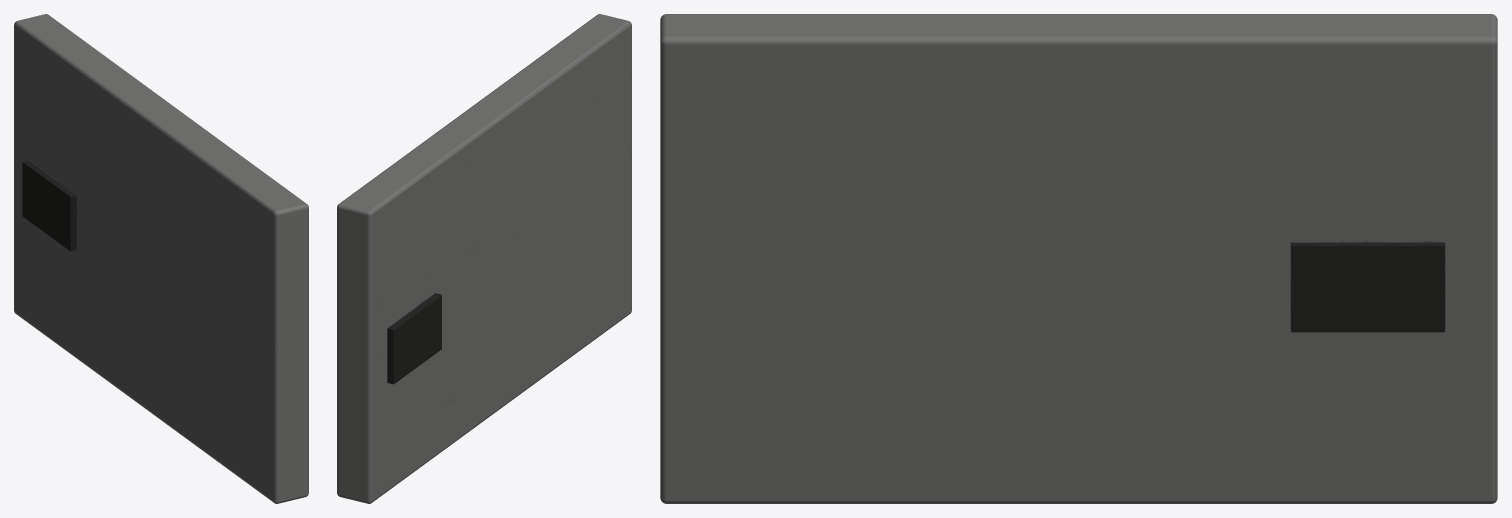
3 views of the same model, side by side, from view 1: azimuth 30°, elevation 25°; view 2: azimuth 150°, elevation 25°; view 3: azimuth 270°, elevation 25° (orthographic). The views are drawn at different scales.
Visible parts, largest first — view 1: 303531_23_06_20_10_17_45_1; view 2: 303531_23_06_20_10_17_45_1; view 3: 303531_23_06_20_10_17_45_1.
Part boxes in pixels (bbox=[...]): 303531_23_06_20_10_17_45_1: bbox=[14, 14, 308, 503]; 303531_23_06_20_10_17_45_1: bbox=[337, 14, 631, 503]; 303531_23_06_20_10_17_45_1: bbox=[660, 14, 1497, 503].
Bounding box in the file's own units: 0.5264 × 3.2 × 5.2.
Materials: 1 (1 with a texture image).
